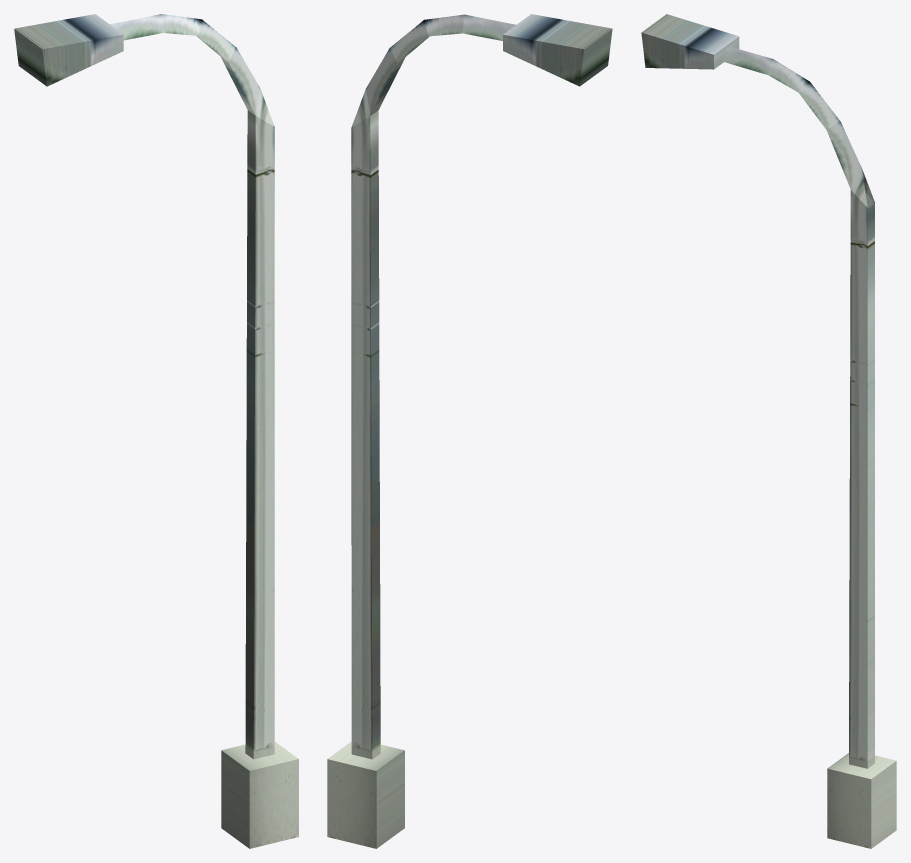
The model's file is lamp.04.single.lod0.obj.
The picture shows the model from 3 angles, left to right: view 1: azimuth 30°, elevation 25°; view 2: azimuth 150°, elevation 25°; view 3: azimuth 330°, elevation 25°; orthographic projection. The views are drawn at different scales.
Visible parts, largest first — view 1: lamp02photo; view 2: lamp02photo; view 3: lamp02photo.
Boxes of the visible parts, box(x1,y1,x2,y2) form: lamp02photo: box(14, 14, 298, 848); lamp02photo: box(327, 14, 612, 848); lamp02photo: box(641, 14, 896, 848).
Size of the model in its own units: 1028 by 3254 by 199.
Materials: 1 (1 with a texture image).
